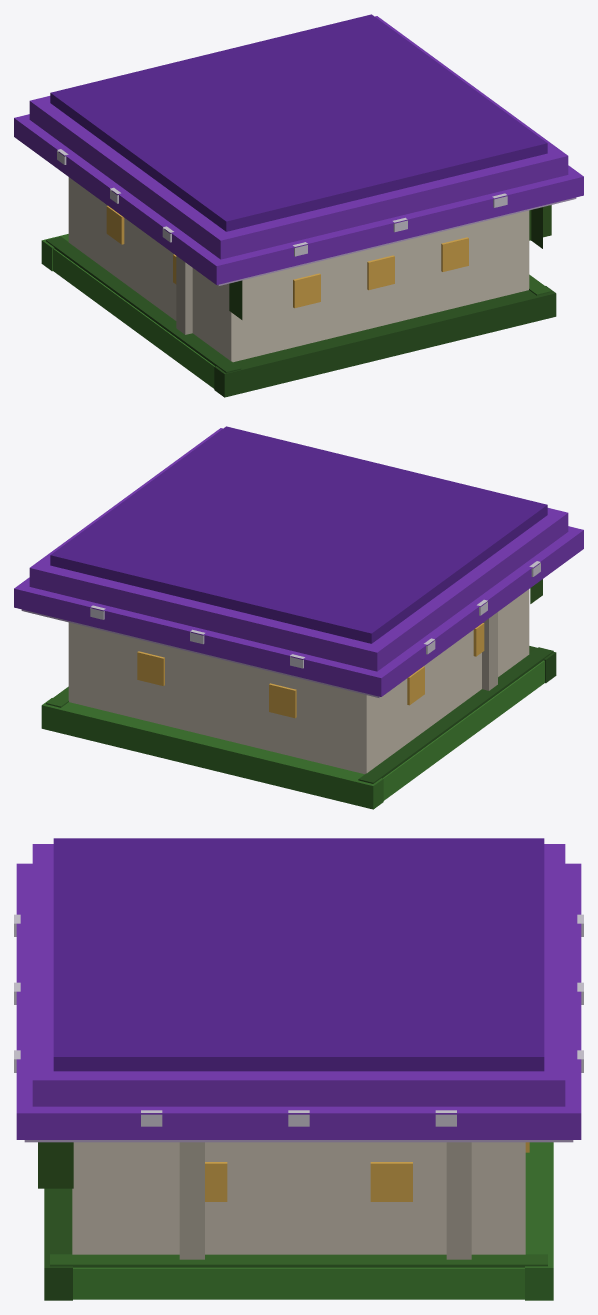
Rendered from MagicMushroomSil.fbx.
3 views of the same model, one above another, from view 1: azimuth 30°, elevation 25°; view 2: azimuth 150°, elevation 25°; view 3: azimuth 270°, elevation 25° (orthographic). The views are drawn at different scales.
Visible parts, largest first — view 1: MM_S_All; view 2: MM_S_All; view 3: MM_S_All.
Boxes of the visible parts, box(x1,y1,x2,y2) form: MM_S_All: box(14, 14, 583, 397); MM_S_All: box(14, 426, 583, 809); MM_S_All: box(14, 838, 583, 1300).
Size of the model in its own units: 45.04 by 20 by 43.04.
